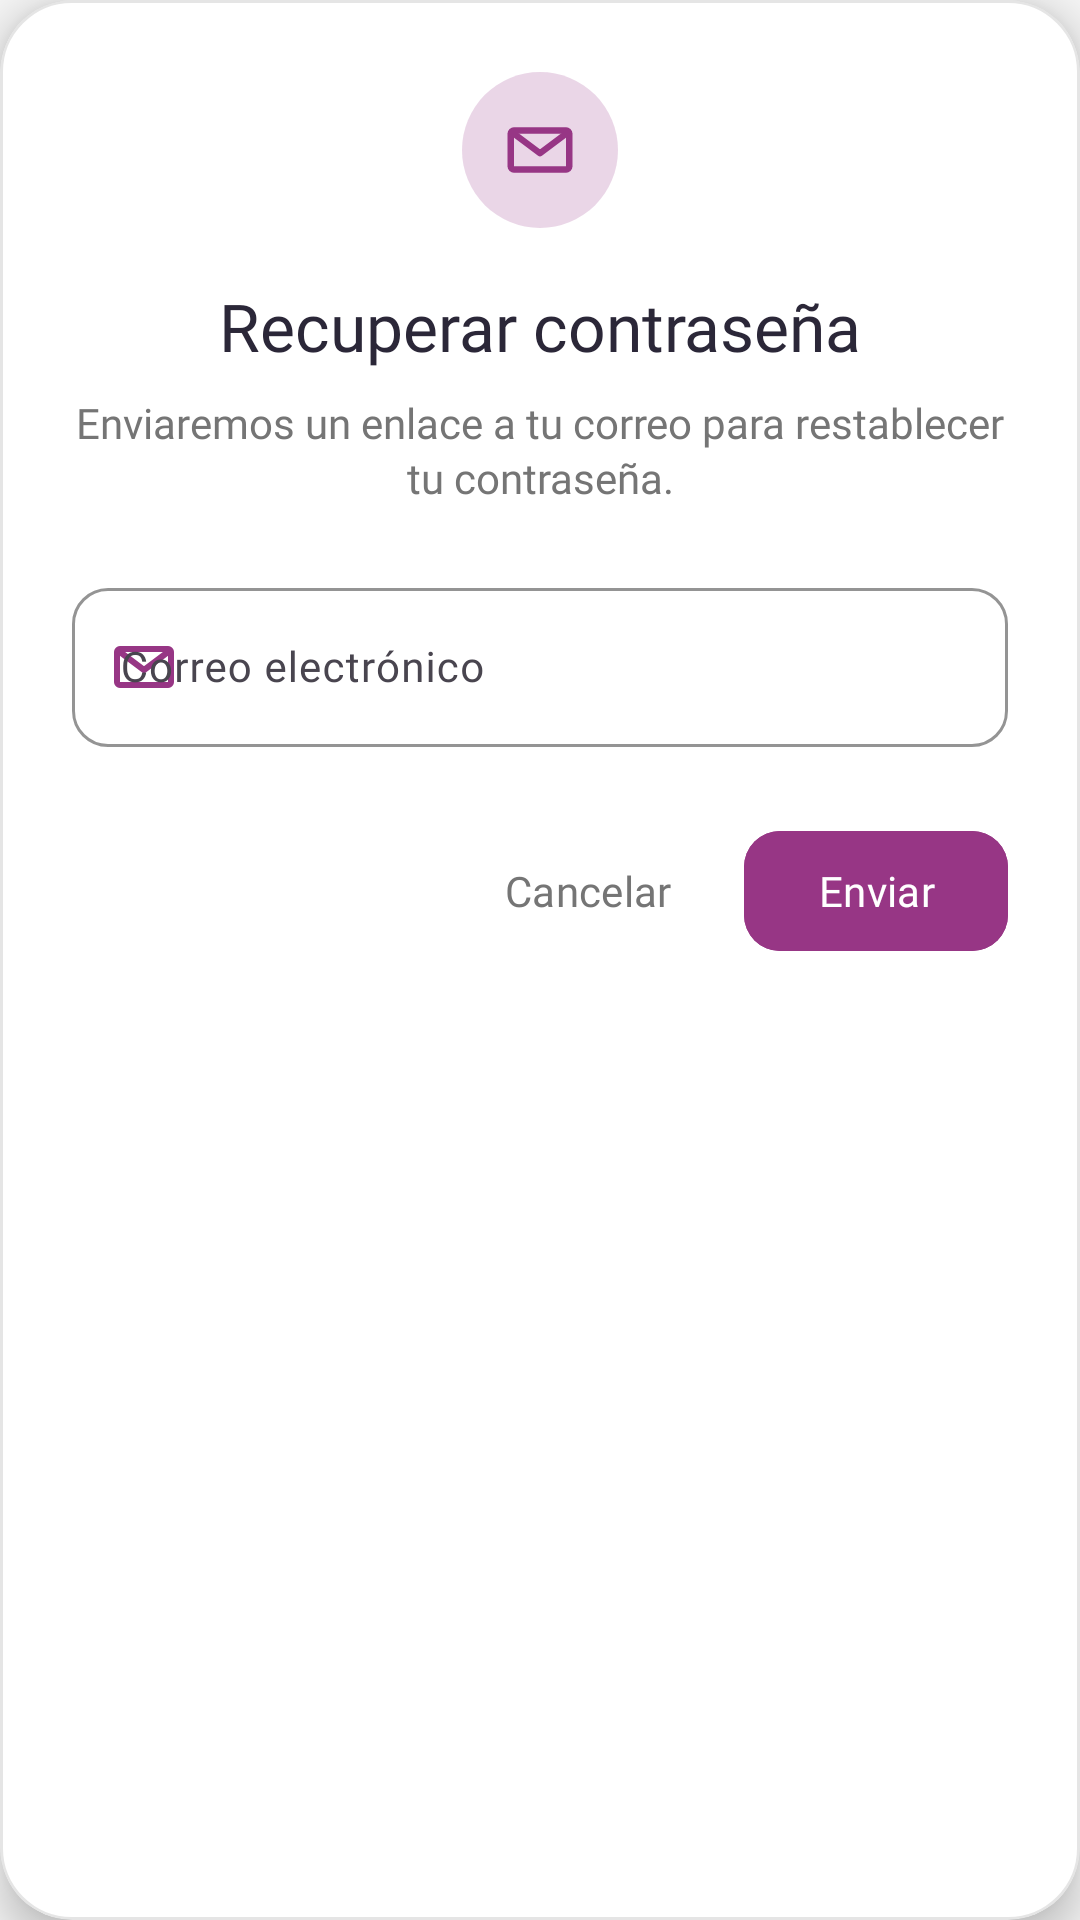

Screen size 1080 × 1920. Icon name, then its center in pixels as [x,y]:
Icono de recuperación de contraseña: [540,150]
